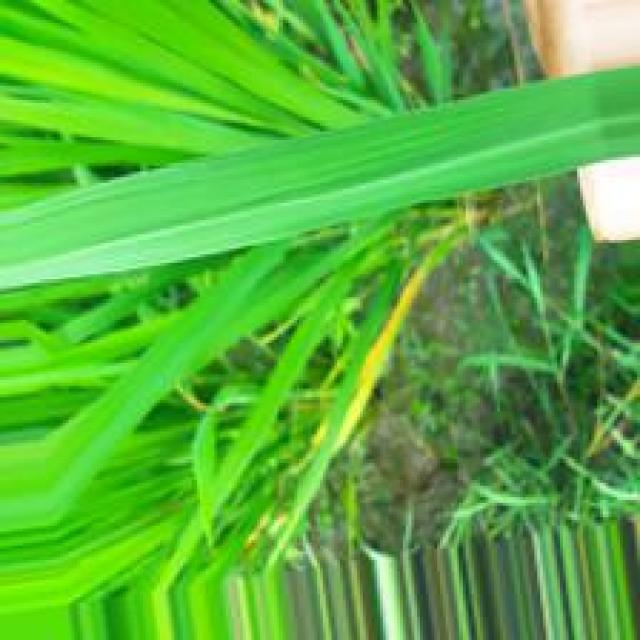HealthyLeaf: (3, 79, 599, 284)
